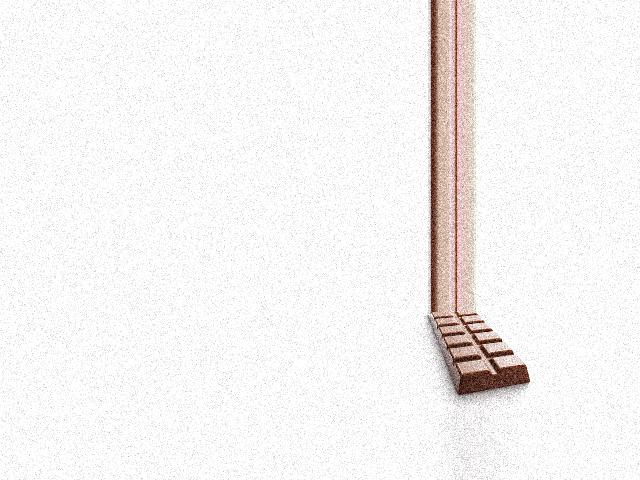chocolate: (421, 312, 530, 397)
